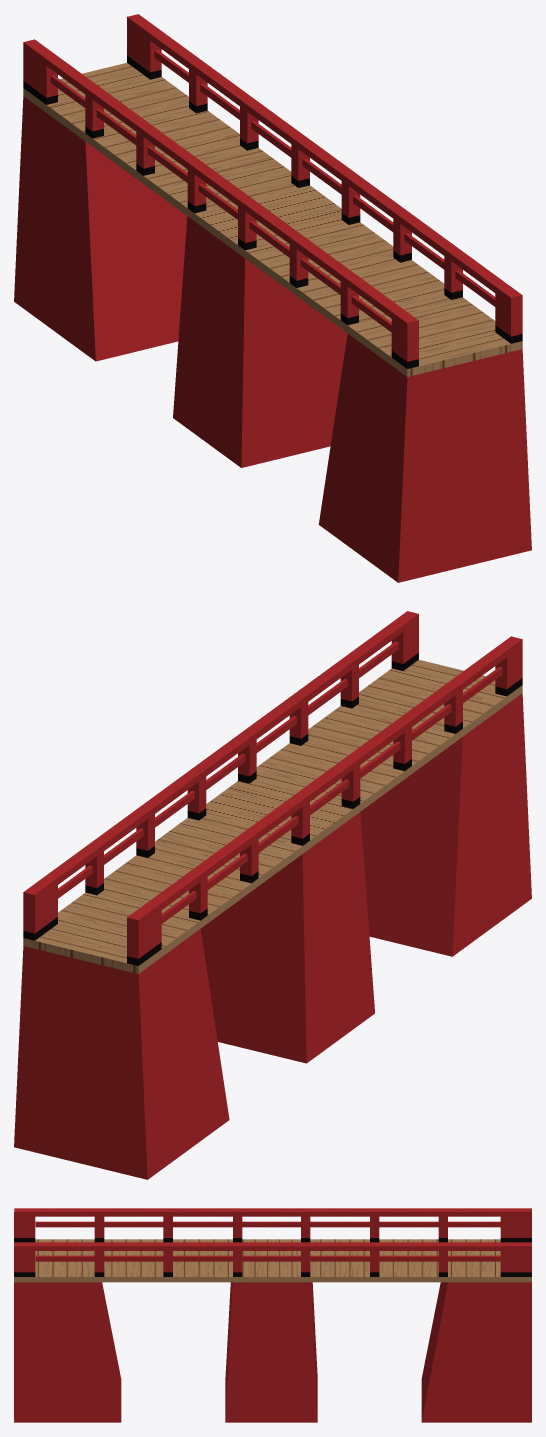
The model's file is bridge.fbx.
3 renders of one model, top to bottom at view 1: azimuth 30°, elevation 25°; view 2: azimuth 150°, elevation 25°; view 3: azimuth 270°, elevation 25°, orthographic. The views are drawn at different scales.
Parts seen in each view (by area): view 1: bridge; view 2: bridge; view 3: bridge.
Part boxes in pixels (x1=…): bridge: x1=14, y1=14, x2=531, y2=582; bridge: x1=14, y1=611, x2=531, y2=1179; bridge: x1=14, y1=1208, x2=531, y2=1422.
Size of the model in its own units: 60.52 by 111 by 301.
